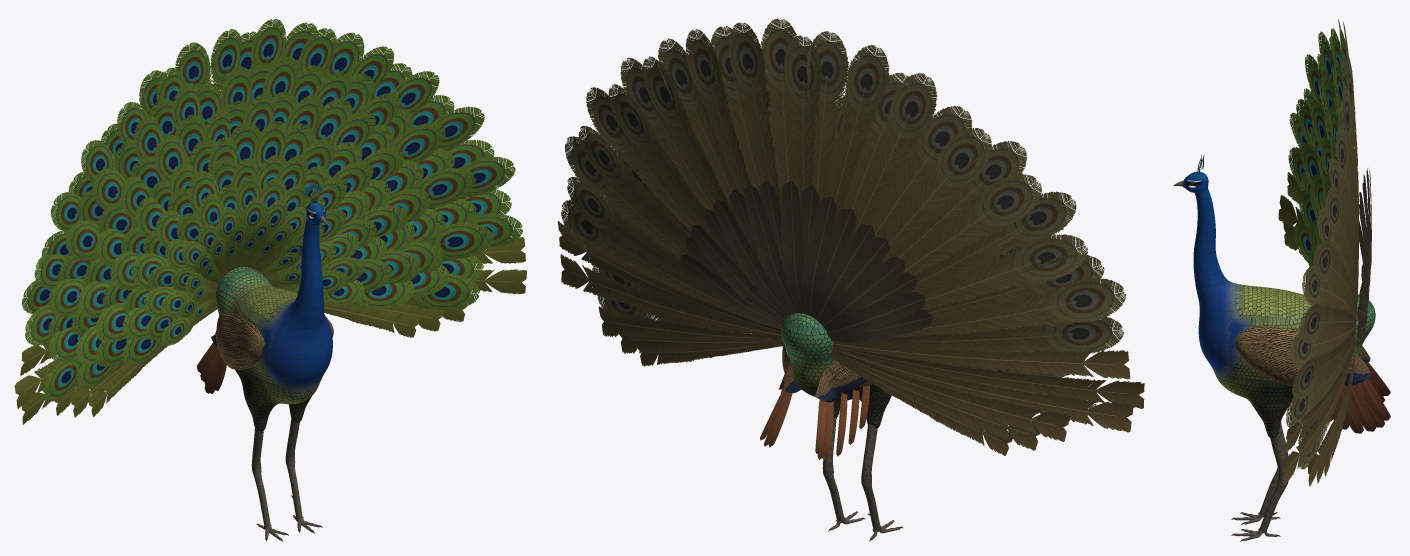
Rendered from indian-peafowl.glb.
3 renders of one model, left to right at view 1: azimuth 30°, elevation 25°; view 2: azimuth 150°, elevation 25°; view 3: azimuth 270°, elevation 25°, orthographic. The views are drawn at different scales.
Parts seen in each view (by area): view 1: indian-peacock.train.front, indian-peacock.body, indian-peacock.wing_right.coverts, indian-peacock.legs, indian-peacock.wing_right.primaries_back; view 2: indian-peacock.train.back, indian-peacock.tail.back, indian-peacock.body, indian-peacock.legs, indian-peacock.wing_right.primaries_back, indian-peacock.wing_right.coverts, indian-peacock.wing_left.primaries_back; view 3: indian-peacock.train.back, indian-peacock.body, indian-peacock.train.front, indian-peacock.wing_left.coverts, indian-peacock.wing_left.primaries, indian-peacock.legs, indian-peacock.tail.back, indian-peacock.tail.front, indian-peacock.wing_right.primaries.
Boxes of the visible parts, x1=… form: indian-peacock.train.front: x1=14, y1=18, x2=526, y2=424; indian-peacock.body: x1=215, y1=202, x2=332, y2=431; indian-peacock.wing_right.coverts: x1=210, y1=312, x2=265, y2=369; indian-peacock.legs: x1=251, y1=419, x2=319, y2=540; indian-peacock.wing_right.primaries_back: x1=197, y1=342, x2=226, y2=393; indian-peacock.train.back: x1=557, y1=18, x2=1144, y2=455; indian-peacock.tail.back: x1=680, y1=181, x2=932, y2=343; indian-peacock.body: x1=781, y1=313, x2=891, y2=428; indian-peacock.legs: x1=822, y1=416, x2=900, y2=540; indian-peacock.wing_right.primaries_back: x1=815, y1=385, x2=869, y2=460; indian-peacock.wing_right.coverts: x1=814, y1=361, x2=872, y2=402; indian-peacock.wing_left.primaries_back: x1=760, y1=365, x2=792, y2=447; indian-peacock.train.back: x1=1282, y1=21, x2=1358, y2=486; indian-peacock.body: x1=1183, y1=171, x2=1375, y2=438; indian-peacock.train.front: x1=1278, y1=19, x2=1357, y2=339; indian-peacock.wing_left.coverts: x1=1235, y1=327, x2=1370, y2=386; indian-peacock.wing_left.primaries: x1=1329, y1=379, x2=1390, y2=433; indian-peacock.legs: x1=1234, y1=422, x2=1288, y2=540; indian-peacock.tail.back: x1=1357, y1=180, x2=1371, y2=339; indian-peacock.tail.front: x1=1358, y1=168, x2=1371, y2=324; indian-peacock.wing_right.primaries: x1=1365, y1=362, x2=1390, y2=402.
Size of the model in its own units: 1.61 by 1.42 by 0.5885.
12 materials, 7 textured.
